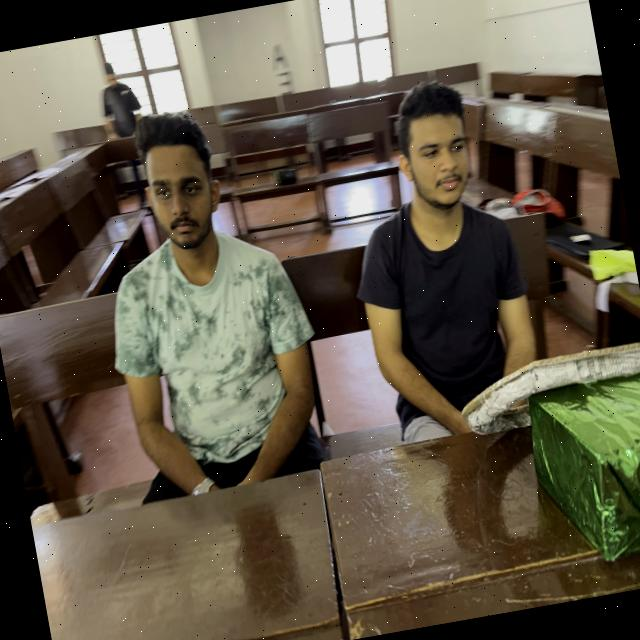Helmet: (100, 222, 336, 529), (348, 188, 558, 462)
